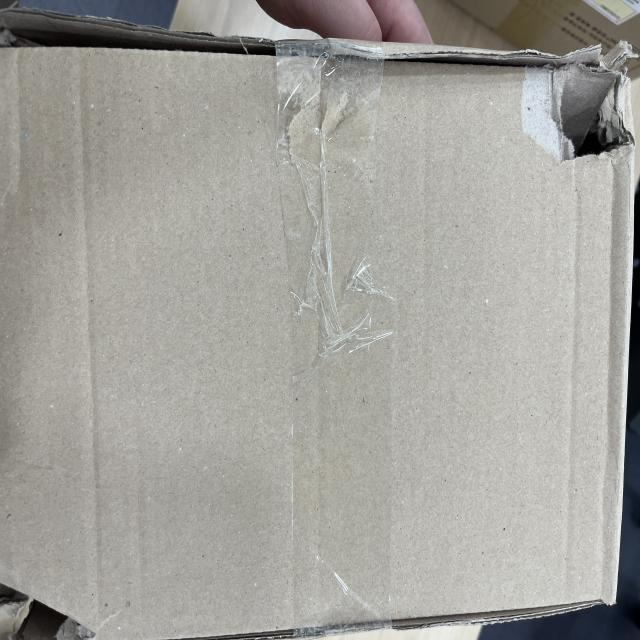hole: (542, 68, 640, 164)
